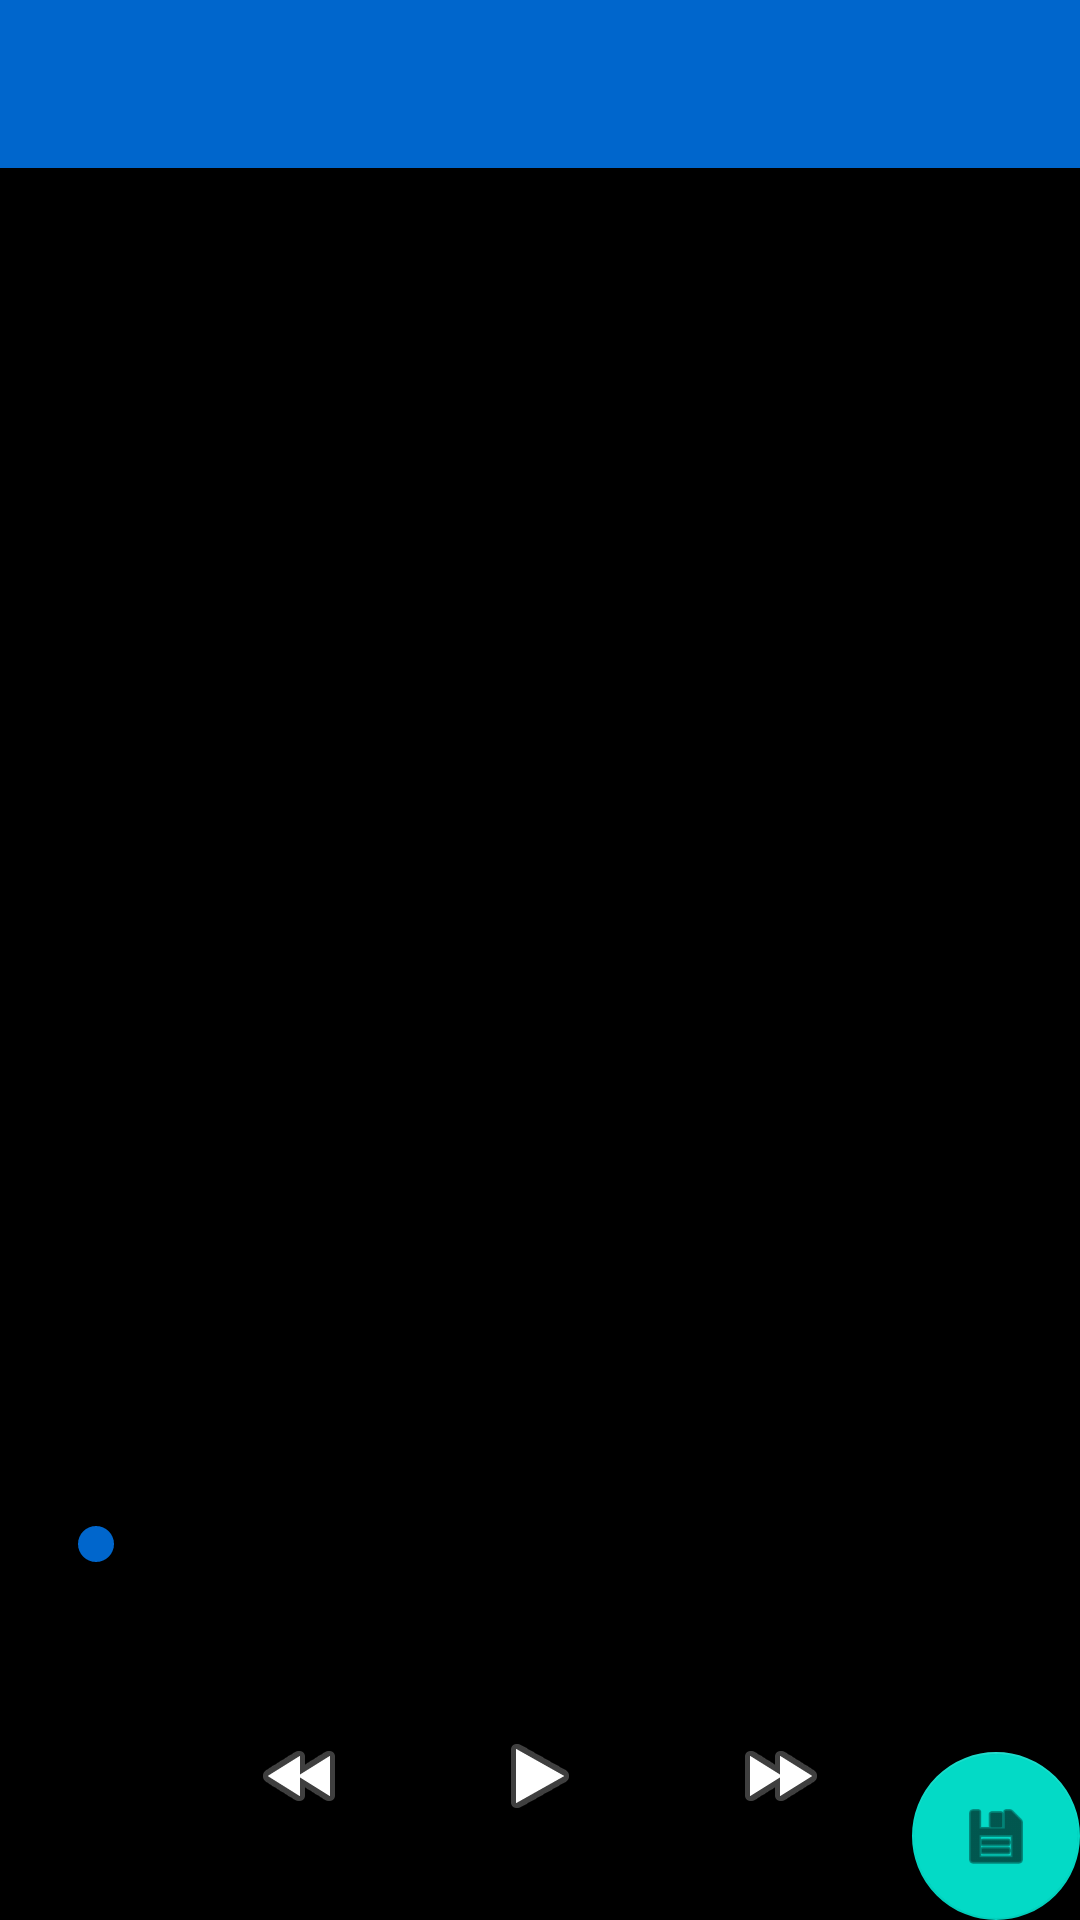

Where icons sit on this 1080px×1920px app screen, as (left=x1, top=y1, right=x2, bottom=y2):
Play/Pause: (left=511, top=1744, right=569, bottom=1808)
save: (left=912, top=1752, right=1080, bottom=1920)
Skip backward: (left=263, top=1751, right=335, bottom=1801)
Skip forward: (left=745, top=1751, right=817, bottom=1801)
